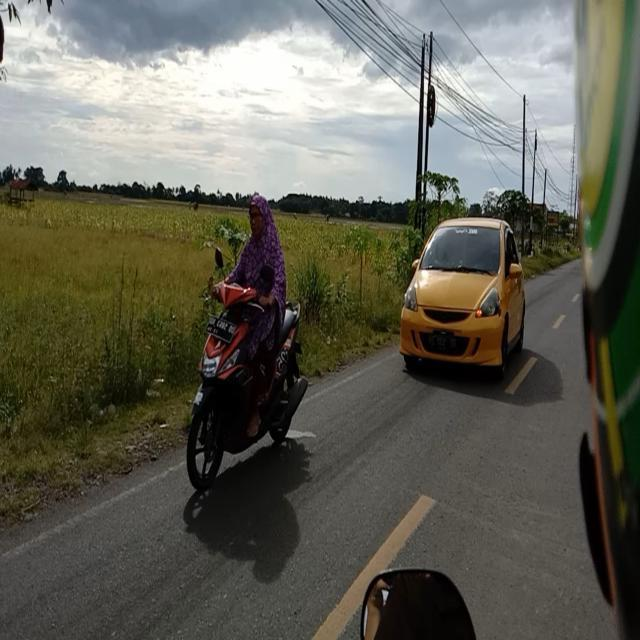motorcycle: (167, 185, 334, 494)
